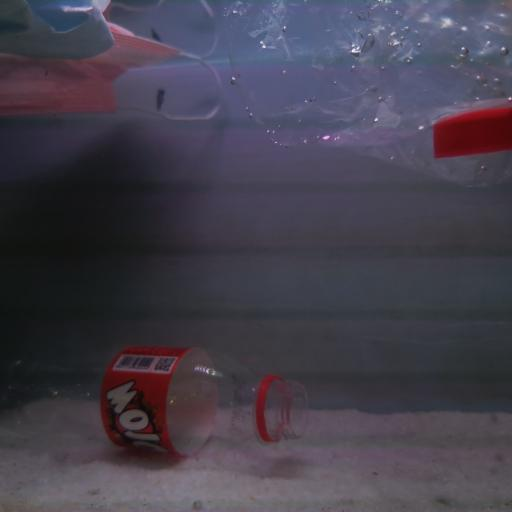bottle_cap: (428, 109, 512, 160)
mask: (0, 23, 228, 126), (0, 4, 122, 62)
plastic_bag: (230, 0, 512, 191)
plastic_bottle: (0, 343, 300, 465)
